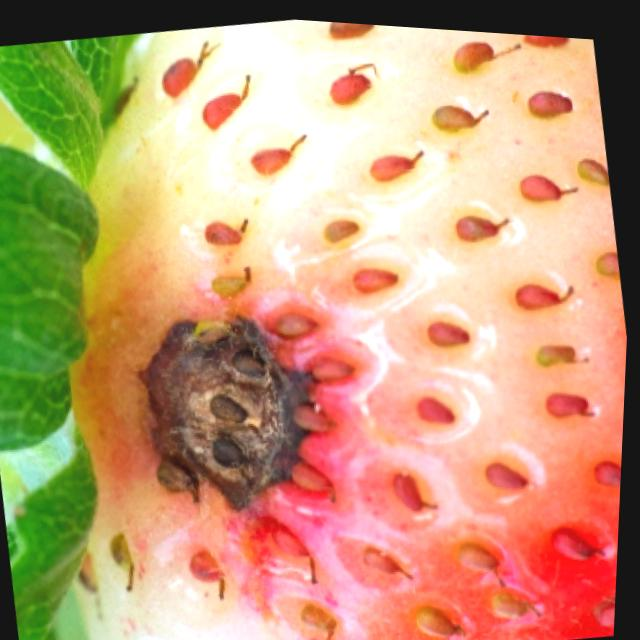Anthracnose Fruit Rot: (106, 263, 360, 546)
